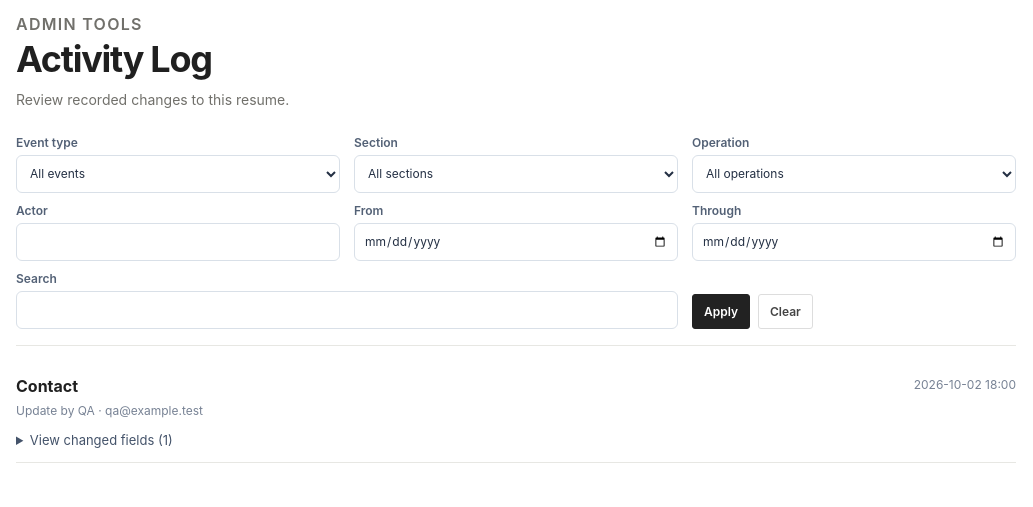
Scenario: Activity Log page › renders Contact V2 semantic changes in the Activity Log UI
Click the heading "View changed fields (1)" at [101, 440], box [30, 432, 173, 448]
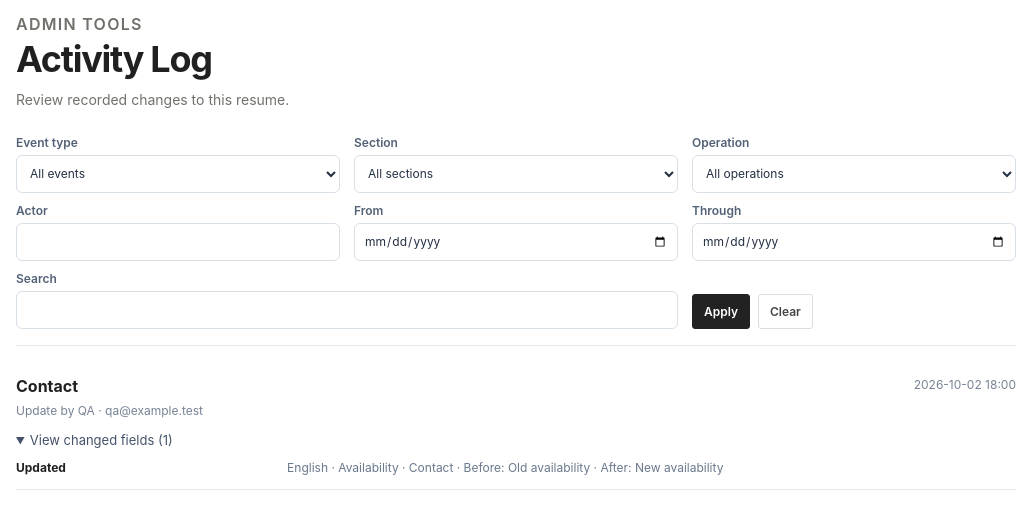
Now the text "Availability" is shown, box [287, 460, 409, 475]
Now the element with class "activity-log-change" shows "Old availability", box [453, 460, 590, 475]
Now the element with class "activity-log-change" shows "New availability", box [590, 460, 723, 475]
